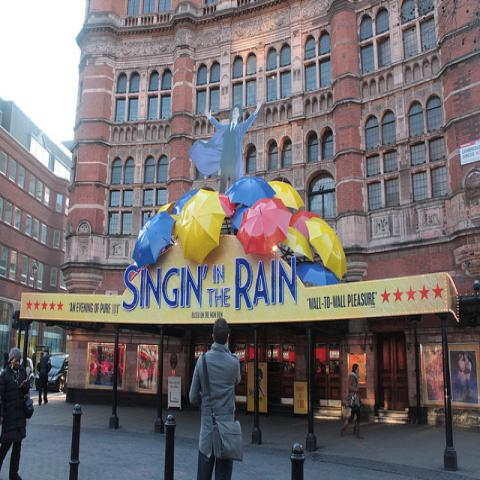car: (35, 354, 69, 392), (20, 358, 35, 389)
